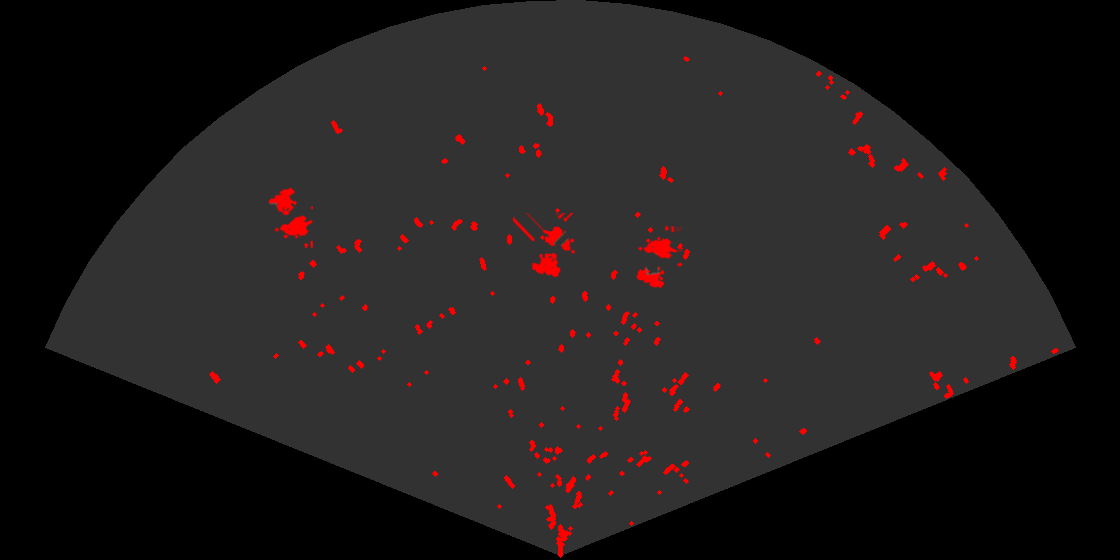cage: (513, 213, 577, 279), (635, 226, 682, 290), (267, 186, 313, 248)
